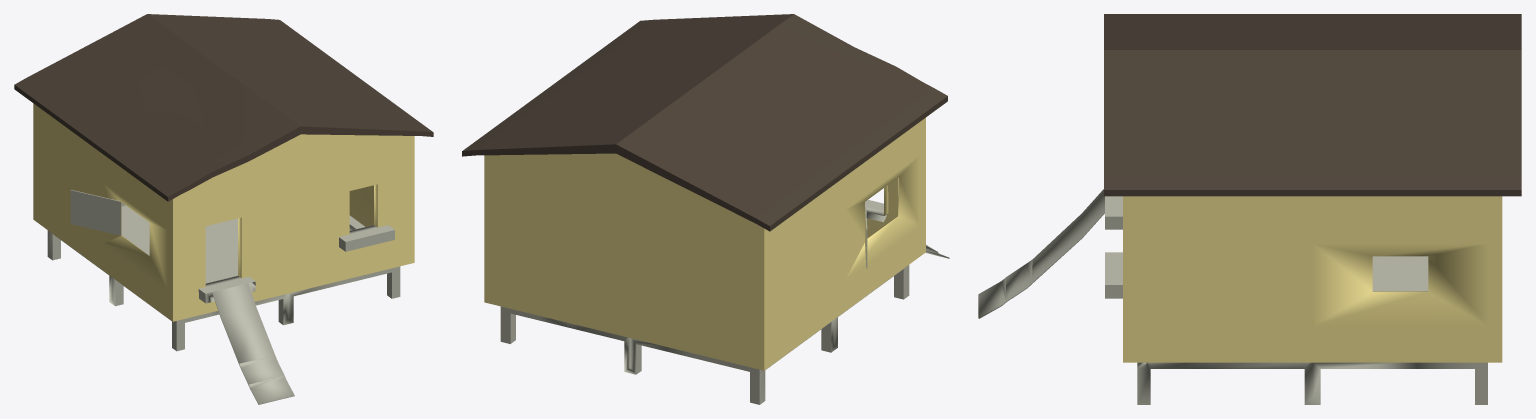
Rendered from GalinheiroCORRIGIDO (1).fbx.
The picture shows the model from 3 angles, left to right: view 1: azimuth 30°, elevation 25°; view 2: azimuth 150°, elevation 25°; view 3: azimuth 270°, elevation 25°; orthographic projection. The views are drawn at different scales.
Parts seen in each view (by area): view 1: Cube.001; view 2: Cube.001; view 3: Cube.001.
Part boxes in pixels (x1,y1,x2,y2): Cube.001: (14, 14, 433, 404); Cube.001: (462, 14, 949, 404); Cube.001: (978, 14, 1521, 404).
Bounding box in the file's own units: 722 × 552 × 895.
